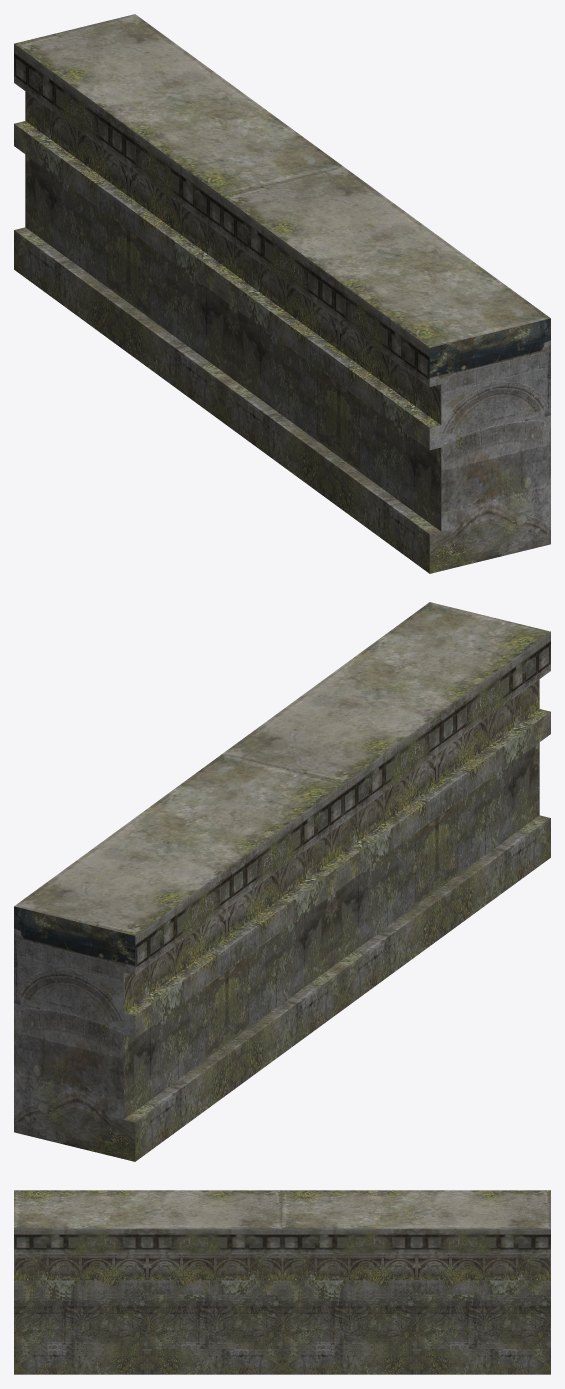
File: bg_lut_lucastle_brosewall03a_sm_psy.FBX
3 views of the same model, one above another, from view 1: azimuth 30°, elevation 25°; view 2: azimuth 150°, elevation 25°; view 3: azimuth 270°, elevation 25° (orthographic). The views are drawn at different scales.
Parts seen in each view (by area): view 1: bg_lut_lucastle_brosewall03a_sm_psy; view 2: bg_lut_lucastle_brosewall03a_sm_psy; view 3: bg_lut_lucastle_brosewall03a_sm_psy.
Part boxes in pixels (box(x1,y1,x2,y2)): bg_lut_lucastle_brosewall03a_sm_psy: box(14, 14, 550, 573); bg_lut_lucastle_brosewall03a_sm_psy: box(14, 602, 550, 1161); bg_lut_lucastle_brosewall03a_sm_psy: box(14, 1190, 550, 1374).
Bounding box in the file's own units: 64.65 × 115 × 384.
